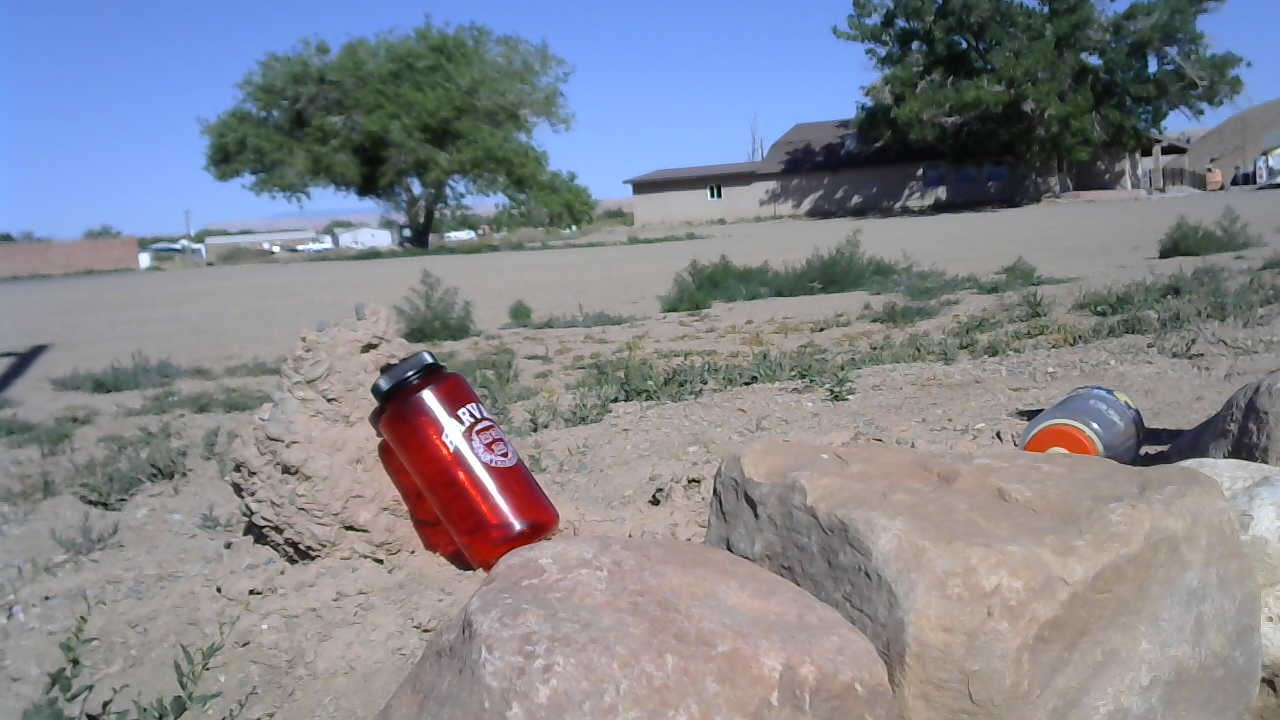bottle: (368, 349, 562, 572), (1012, 382, 1147, 467)
